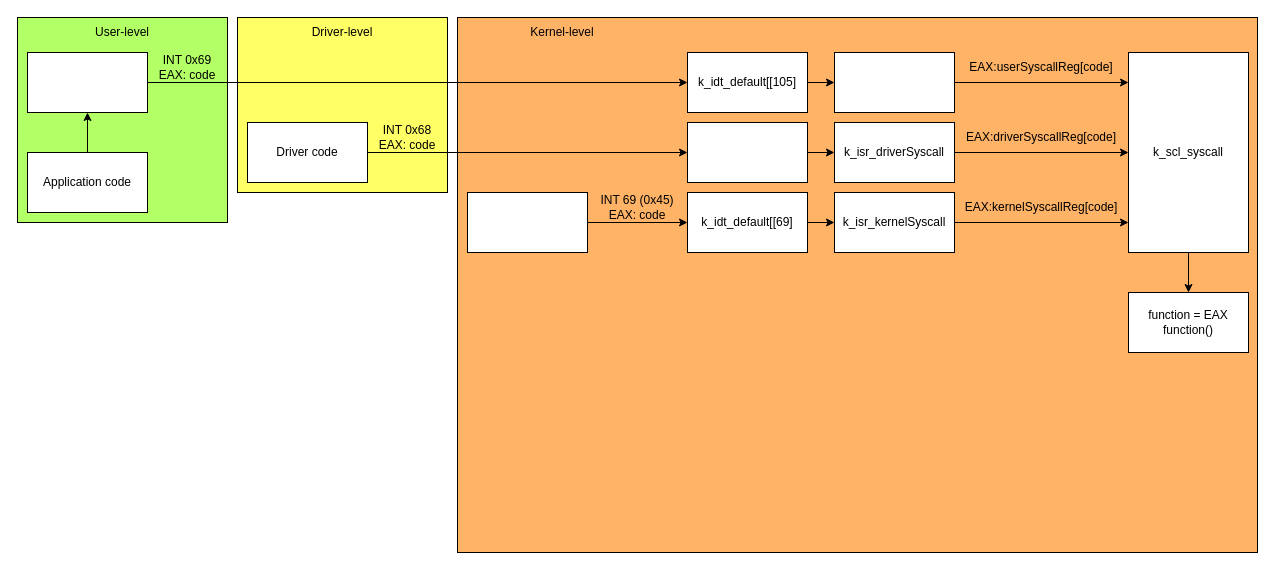
Image size: 1275x570. Some labels were removed from this diagram. Each missing label, with the box of its shape:
GunwAPI: (26, 52, 148, 112)
k_idt_default[[104]: (686, 122, 808, 182)
k_isr_userSyscall: (834, 52, 954, 112)
Kernel code: (466, 192, 588, 252)
